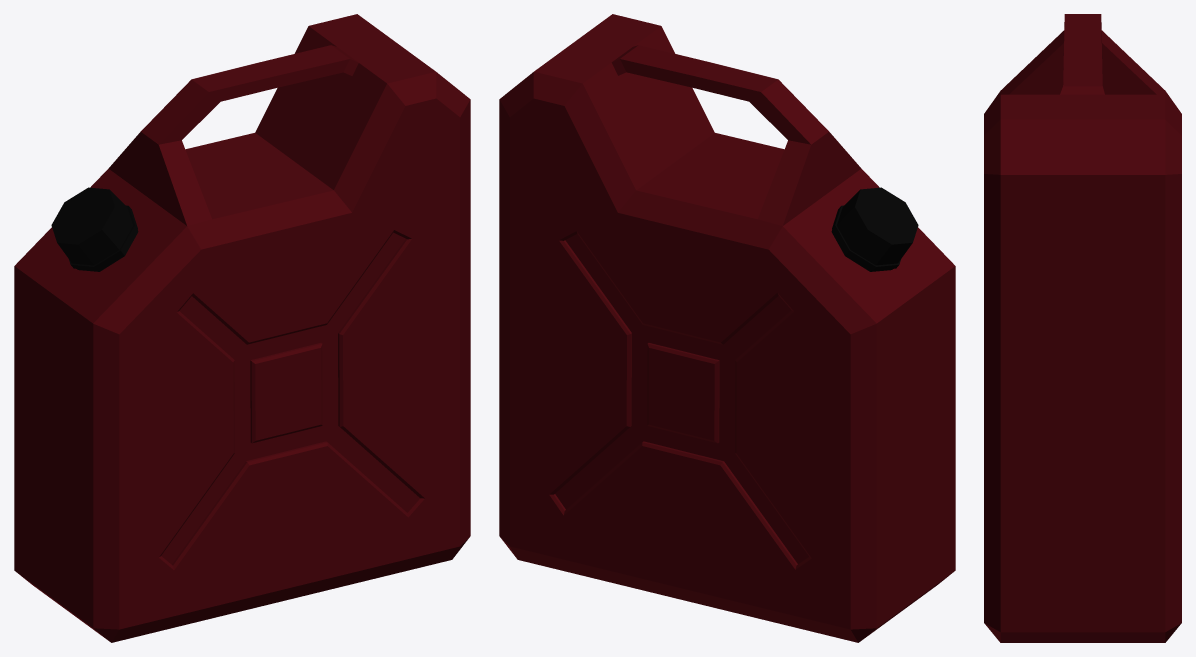
File: Gas_Can.fbx
3 views of the same model, side by side, from view 1: azimuth 30°, elevation 25°; view 2: azimuth 150°, elevation 25°; view 3: azimuth 270°, elevation 25° (orthographic). The views are drawn at different scales.
Parts seen in each view (by area): view 1: Gas Can; view 2: Gas Can; view 3: Gas Can.
Part boxes in pixels (x1,y1,x2,y2): Gas Can: [14, 14, 470, 642]; Gas Can: [499, 14, 955, 642]; Gas Can: [984, 14, 1181, 642].
Bounding box in the file's own units: 34.32 × 43.22 × 14.9.
